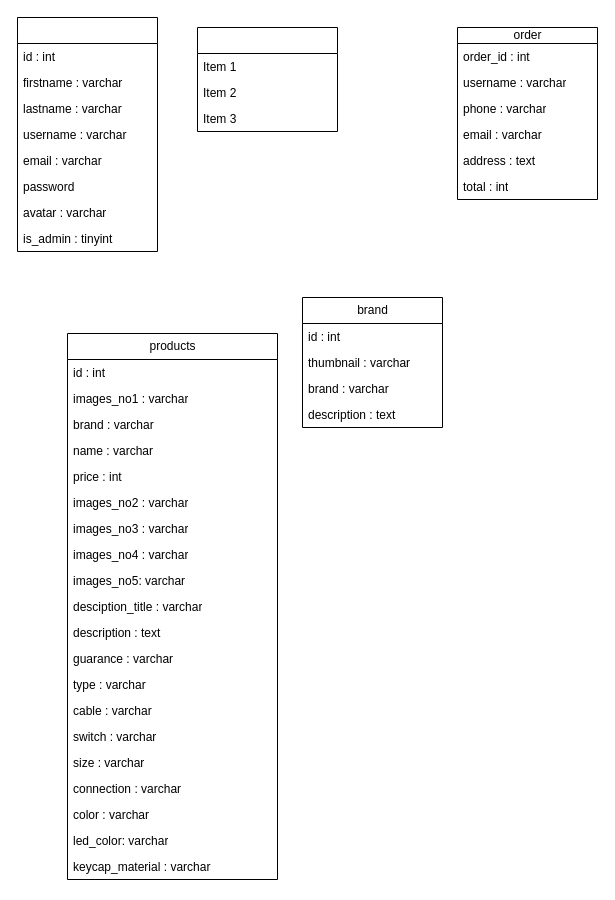
Image size: 615x900. Some labels were removed from this diagram. Each missing label, with the box of its shape:
order_details: (196, 26, 338, 132)
users: (16, 16, 158, 252)
